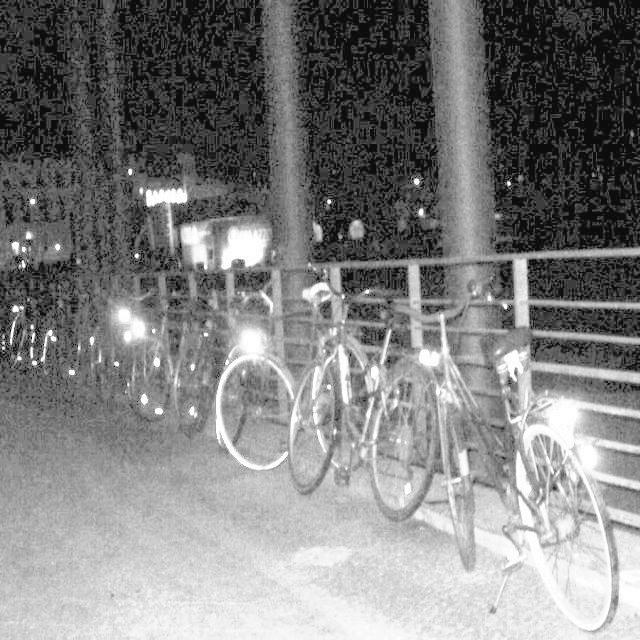Bicycle: (421, 315, 630, 632), (210, 250, 362, 471), (119, 232, 257, 458), (0, 228, 142, 408), (331, 300, 444, 492)
